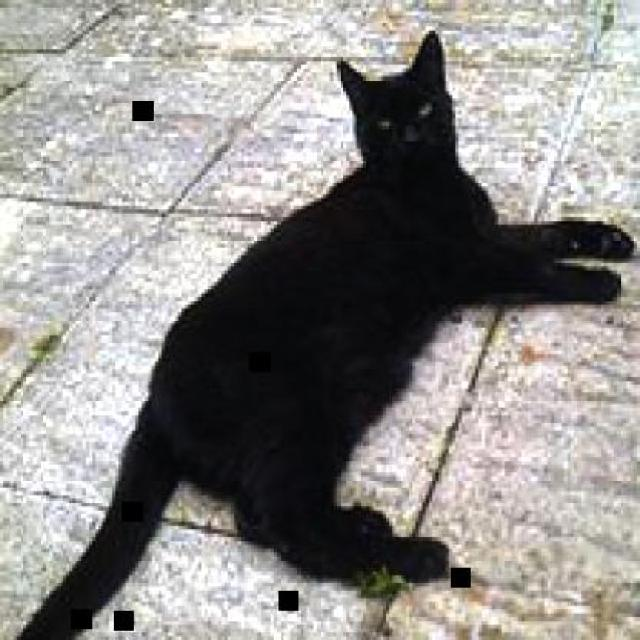cat: (9, 26, 638, 637)
